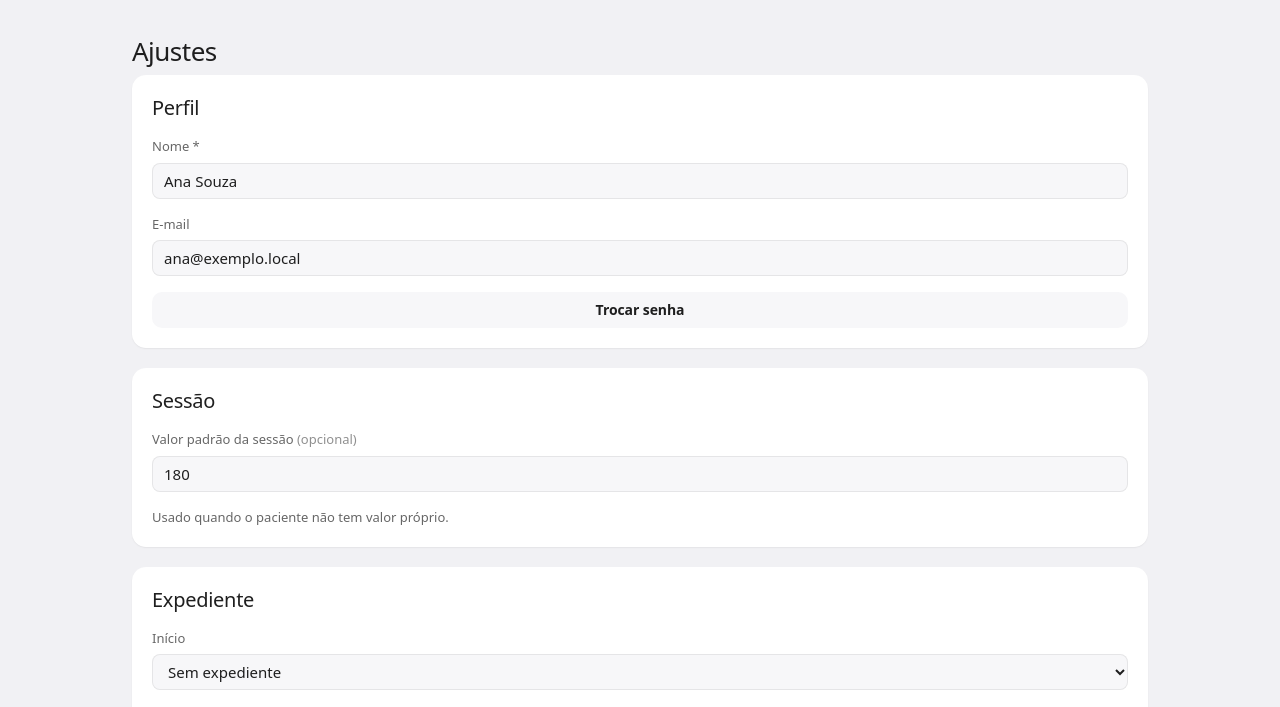
Test: AjustesPage › valor vazio vai como nulo, expediente em branco vai nulo e o titulo guardado e mantido com a caixa desligada
Expected: the heading "Ajustes" is shown, top-left (132, 33), bottom-right (217, 69)
Expected: the field showing "Ana Souza" is shown, top-left (152, 162), bottom-right (1128, 198)
Step 1. Clear the number field labelled "Valor padrão da sessão (opcional)" → (640,474), box top-left (152, 456), bottom-right (1128, 492)
(page scrolled)
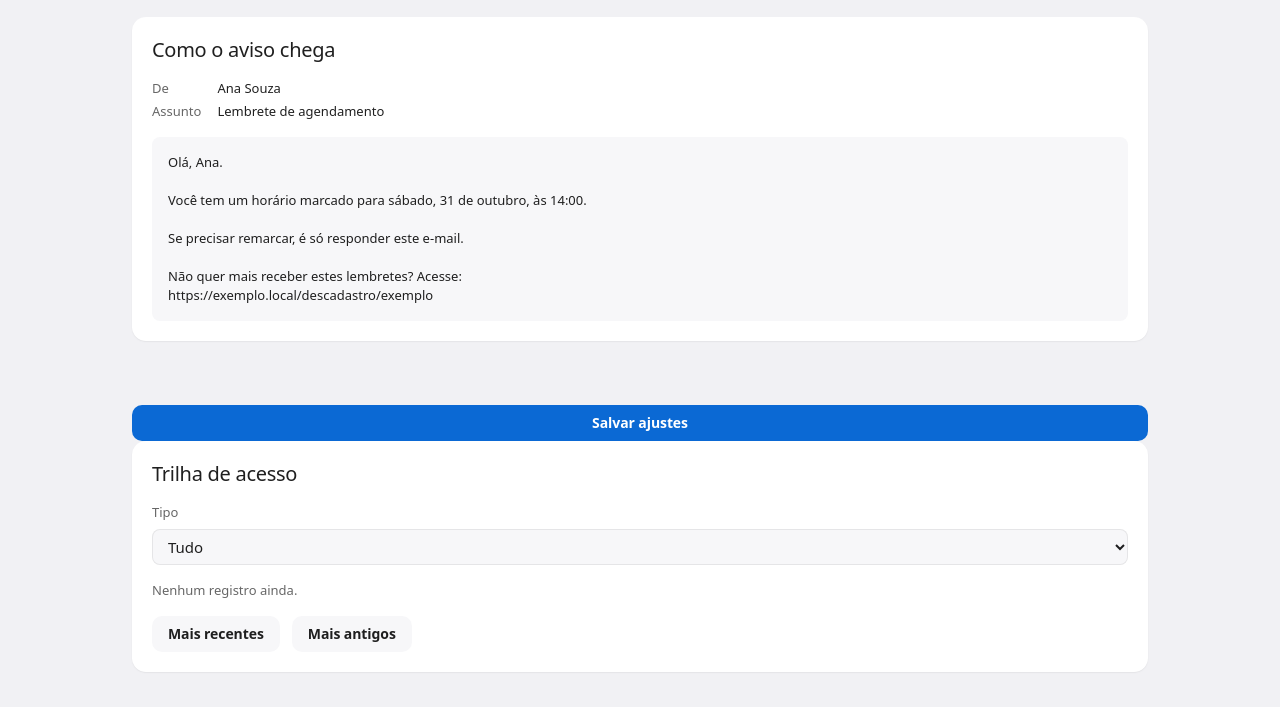
Step 2. Click the button "Salvar ajustes" → (640,423), box top-left (132, 405), bottom-right (1148, 441)
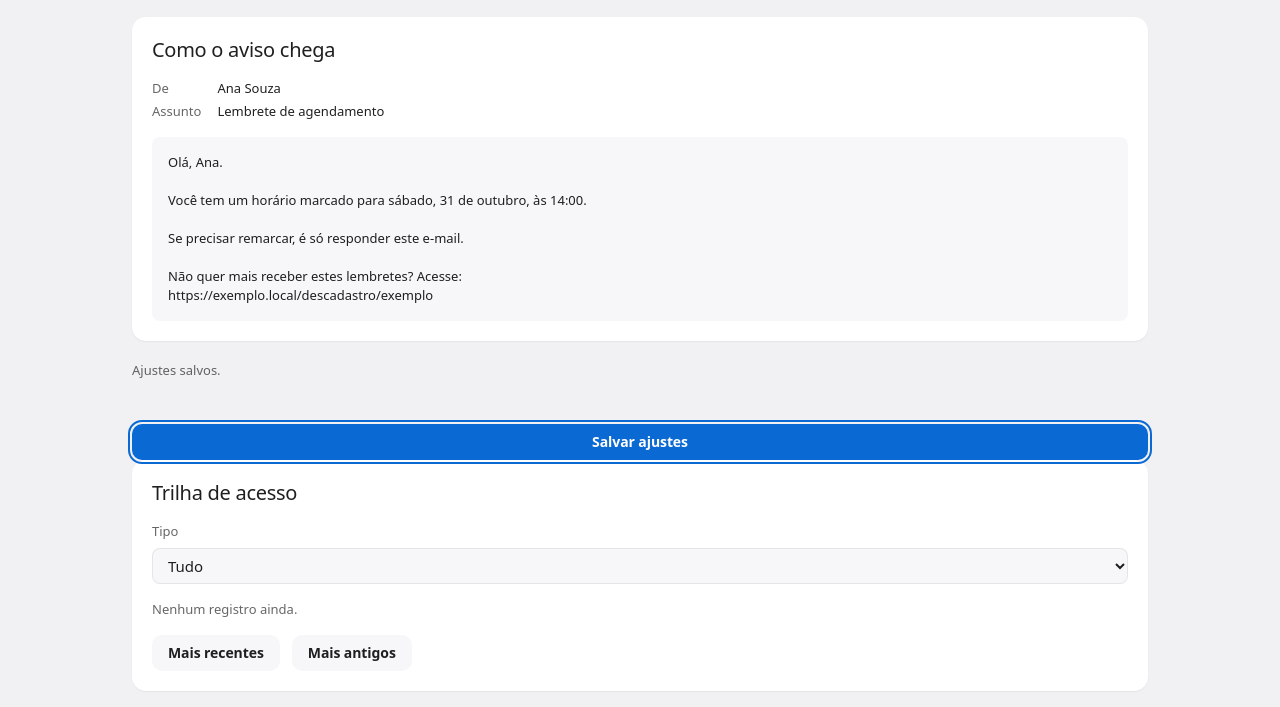
Expected: the message "Ajustes salvos." is shown, top-left (132, 361), bottom-right (221, 379)
